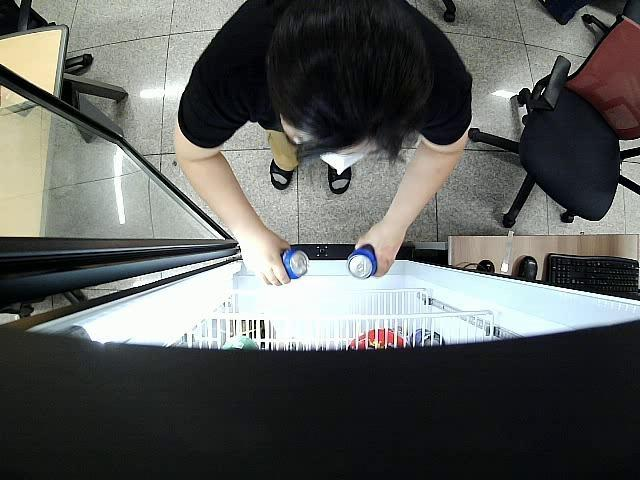13_pocariSweat: (278, 250, 308, 280), (348, 248, 376, 280)
